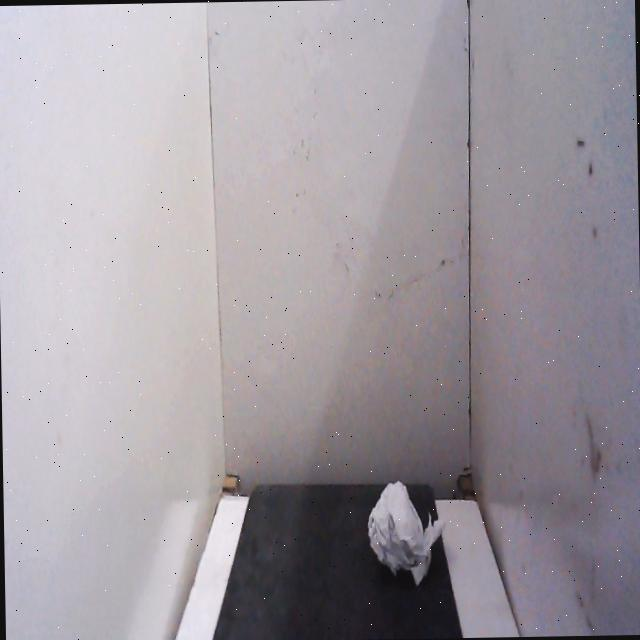papel: (362, 466, 450, 594)
